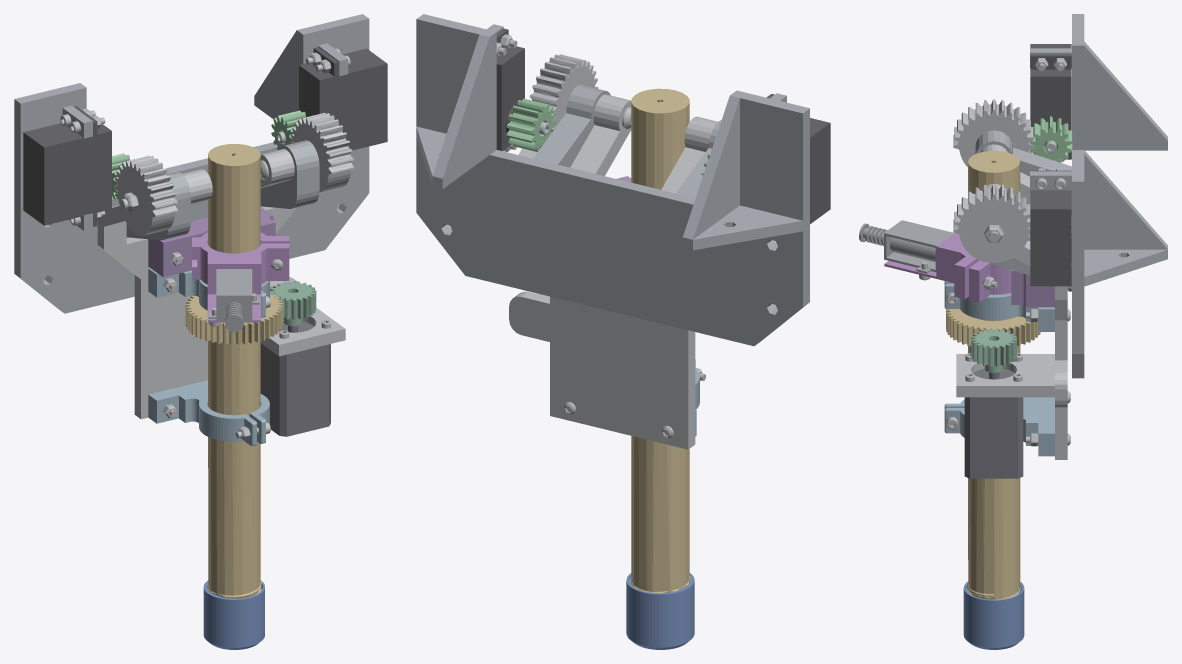
The model's file is full_assembly.glb.
3 views of the same model, side by side, from view 1: azimuth 30°, elevation 25°; view 2: azimuth 150°, elevation 25°; view 3: azimuth 270°, elevation 25° (orthographic). The views are drawn at different scales.
Visible parts, largest first — view 1: Baseplate, Auger, Mounting plate, Servo MG996R (+X), Servo MG996R (-X), Stepper (NEMA 11), Tap collar, Bracket (rear), Auger cap, Solenoid (Adafruit 412), Tap collar base (AI), Bracket (front) (+2 smaller); view 2: Baseplate, Mounting plate, Auger, Auger cap, Servo MG996R (-X), Servo MG996R (+X), Servo pinion (-X); view 3: Baseplate, Mounting plate, Auger, Stepper (NEMA 11), Servo MG996R (-X), Tap collar, Auger cap, Servo MG996R (+X), Solenoid (Adafruit 412), Bracket (rear), Bracket (front), Stepper pinion (+2 smaller).
Part boxes in pixels (x1,y1,x2,y2): Baseplate: (14, 14, 369, 313); Auger: (185, 144, 282, 598); Mounting plate: (97, 112, 354, 419); Servo MG996R (+X): (23, 106, 111, 226); Servo MG996R (-X): (299, 47, 387, 150); Stepper (NEMA 11): (260, 321, 330, 436); Tap collar: (192, 232, 289, 322); Bracket (rear): (148, 380, 269, 446); Auger cap: (203, 580, 264, 649); Solenoid (Adafruit 412): (208, 269, 259, 332); Tap collar base (AI): (148, 207, 275, 277); Bracket (front): (148, 268, 269, 317); Baseplate: (416, 14, 809, 346); Mounting plate: (509, 54, 717, 449); Auger: (630, 88, 690, 593); Auger cap: (626, 573, 694, 649); Servo MG996R (-X): (496, 28, 524, 150); Servo MG996R (+X): (766, 94, 830, 223); Servo pinion (-X): (506, 98, 555, 151); Baseplate: (975, 14, 1167, 378); Mounting plate: (953, 99, 1067, 459); Auger: (946, 151, 1041, 599); Stepper (NEMA 11): (964, 368, 1023, 478); Servo MG996R (-X): (1030, 170, 1071, 286); Tap collar: (884, 233, 1011, 302); Auger cap: (963, 581, 1024, 649); Servo MG996R (+X): (1030, 44, 1071, 159); Solenoid (Adafruit 412): (859, 220, 954, 273); Bracket (rear): (944, 397, 1054, 456); Bracket (front): (944, 281, 1054, 331); Stepper pinion: (971, 328, 1016, 372).
Size of the model in its own units: 190 by 286 by 148.
